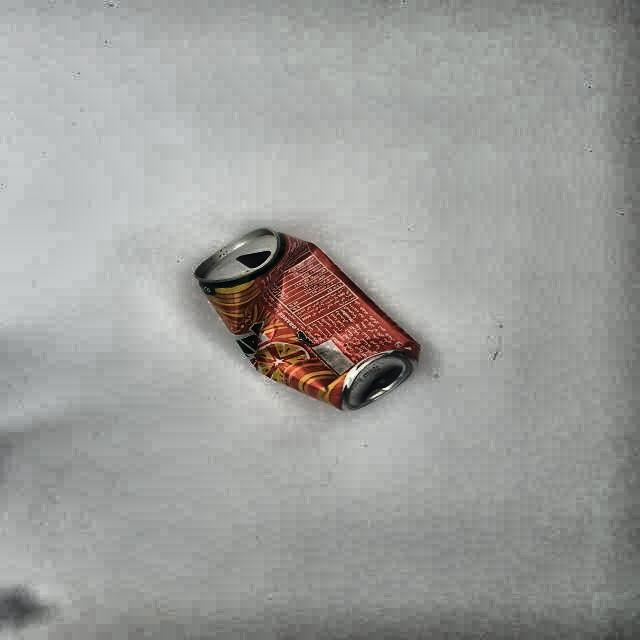metal: (194, 231, 421, 412)
